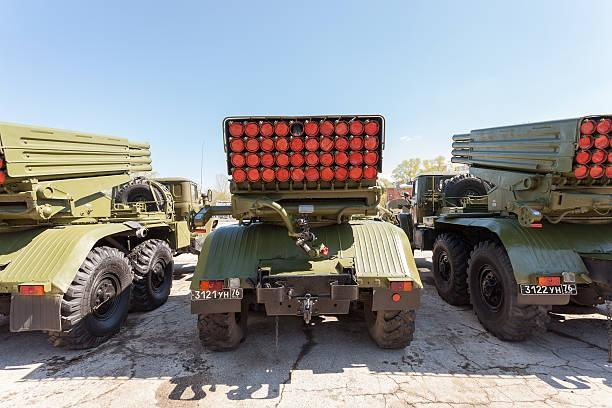rszo: (186, 96, 414, 360), (405, 113, 612, 348), (0, 110, 192, 352)
